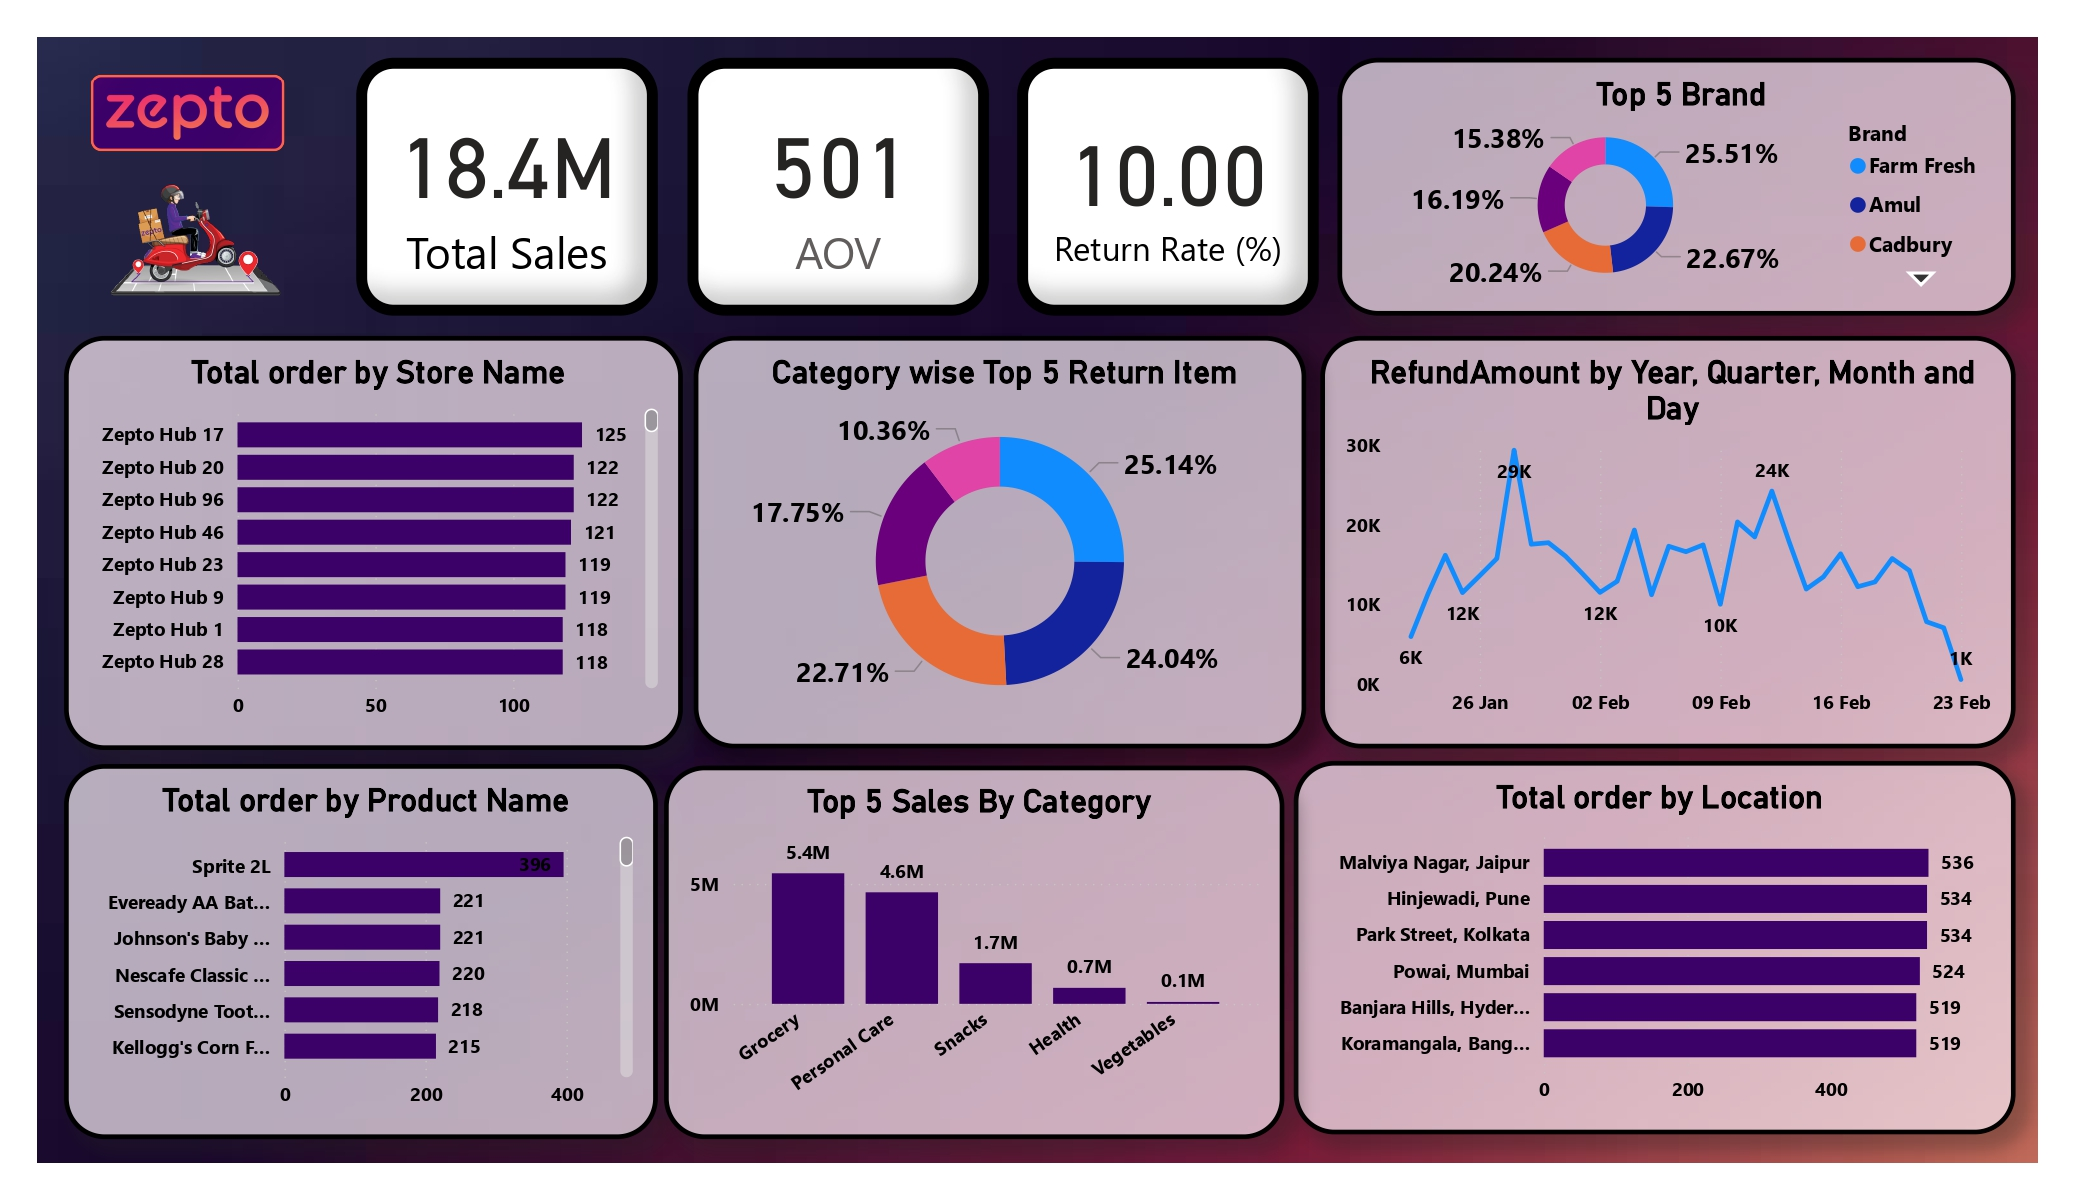

The dashboard page shown, as its layout file describes it:
{"tool":"powerbi","page":{"name":"Page 1","canvas":[1280,720],"ordinal":0},"visuals":[{"type":"donutChart","title":"Top 5 Brand","fields":{"Category":["Products.Brand"],"Y":["CountNonNull(Returns.OrderID)"]},"box":[832.5,13,433.9,165],"z":0},{"type":"lineChart","title":"RefundAmount by Year, Quarter, Month and Day","fields":{"Y":["Sum(Returns.RefundAmount)"],"Category":["Returns.ReturnDate.Variation.Date Hierarchy.Year","Returns.ReturnDate.Variation.Date Hierarchy.Quarter","Returns.ReturnDate.Variation.Date Hierarchy.Month","Returns.ReturnDate.Variation.Date Hierarchy.Day"]},"box":[820.7,190.7,445.1,264.7],"z":1000},{"type":"barChart","title":"Total order by Location","fields":{"Category":["Dark_Warehouses.Location"],"Y":["CountNonNull(Orders.CustomerID)"]},"box":[804.4,462.8,461.3,239.5],"z":2000},{"type":"clusteredBarChart","title":"Total order by Store Name","fields":{"Y":["CountNonNull(Orders.CustomerID)"],"Category":["Dark_Warehouses.StoreName"]},"box":[16.7,191,396.8,265.1],"z":3000},{"type":"clusteredBarChart","title":"Total order by Product Name","fields":{"Y":["CountNonNull(Orders.CustomerID)"],"Category":["Products.ProductName"]},"box":[16.7,465.4,380.1,240],"z":4000},{"type":"donutChart","title":"Category wise Top 5 Return Item","fields":{"Category":["Products.Category"],"Y":["CountNonNull(Returns.ReturnID)"]},"box":[419.9,190.7,391.8,264.7],"z":5000},{"type":"card","title":"Total Sales","fields":{"Values":["Table.Total Sales"]},"box":[204,13,192.8,165],"z":6000},{"type":"card","fields":{"Values":["Table.AOV"]},"box":[415.5,13.3,193.7,165],"z":7000},{"type":"card","fields":{"Values":["Table.Return Rate (%)"]},"box":[626.7,13,192.8,165],"z":8000},{"type":"image","box":[14.8,72.5,173,112.4],"z":9000},{"type":"image","box":[16.6,13,157.6,68.6],"z":10000},{"type":"columnChart","title":"Top 5 Sales By Category","fields":{"Category":["Products.Category"],"Y":["Table.Total Sales"]},"box":[400.7,465.8,397.8,239.5],"z":11000}]}

Visuals, with their boxes in screenshot pixels (x1, y1, x2, y2):
"Top 5 Brand" donutChart: 1336/26/2030/290
"RefundAmount by Year, Quarter, Month and Day" lineChart: 1317/310/2029/733
"Total order by Location" barChart: 1291/745/2029/1128
"Total order by Store Name" clusteredBarChart: 32/311/666/735
"Total order by Product Name" clusteredBarChart: 32/749/640/1133
"Category wise Top 5 Return Item" donutChart: 677/310/1303/733
"Total Sales" card: 332/26/640/290
card - Table.AOV: 670/27/979/290
card - Table.Return Rate (%): 1007/26/1316/290
image: 29/121/306/301
image: 32/26/284/136
"Top 5 Sales By Category" columnChart: 646/750/1282/1133
